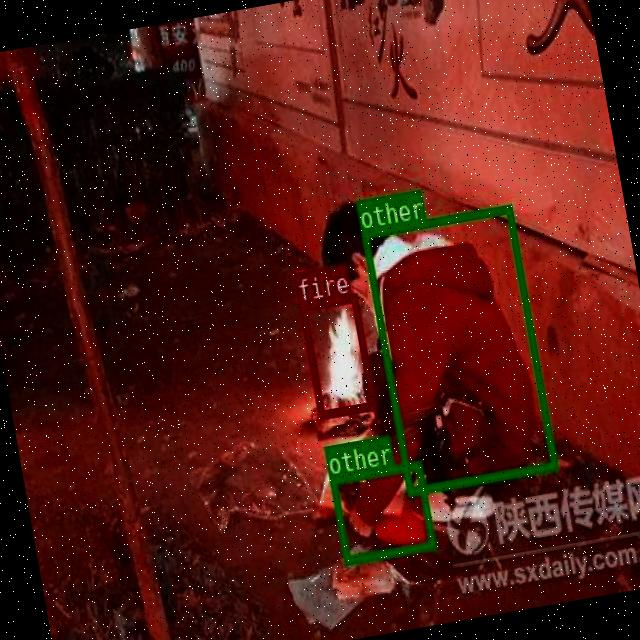fire: (297, 292, 376, 417)
